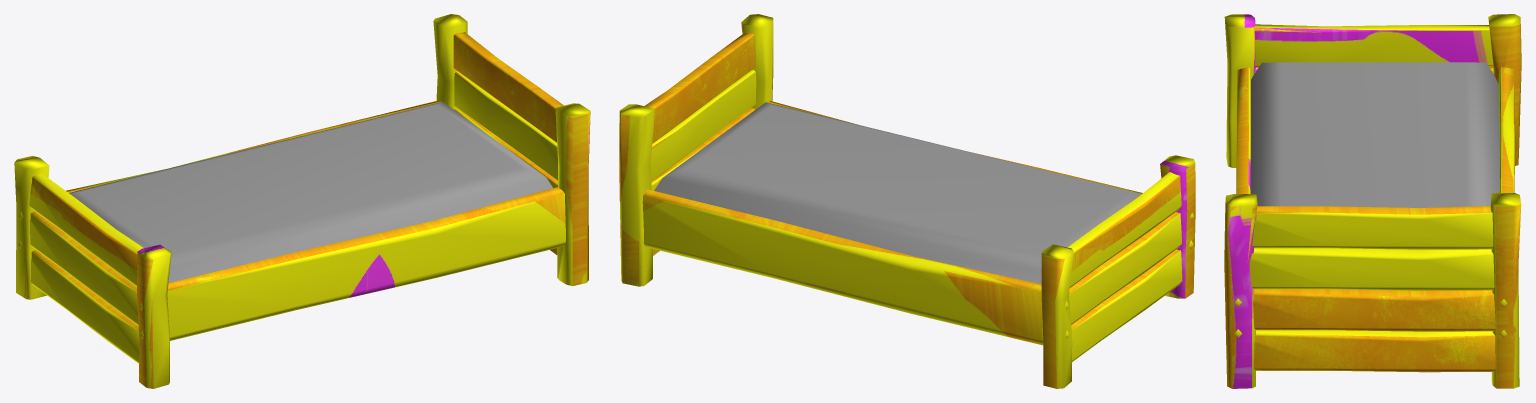
The picture shows the model from 3 angles, left to right: view 1: azimuth 30°, elevation 25°; view 2: azimuth 150°, elevation 25°; view 3: azimuth 270°, elevation 25°; orthographic projection. The views are drawn at different scales.
Parts seen in each view (by area): view 1: defaultobject (×2); view 2: defaultobject (×2); view 3: defaultobject (×2).
Boxes of the visible parts, x1,y1,x2,y2 form: defaultobject (×2): [14, 14, 590, 388]; defaultobject (×2): [619, 14, 1195, 388]; defaultobject (×2): [1224, 14, 1521, 388].
Size of the model in its own units: 21.5 by 7.75 by 11.42.
